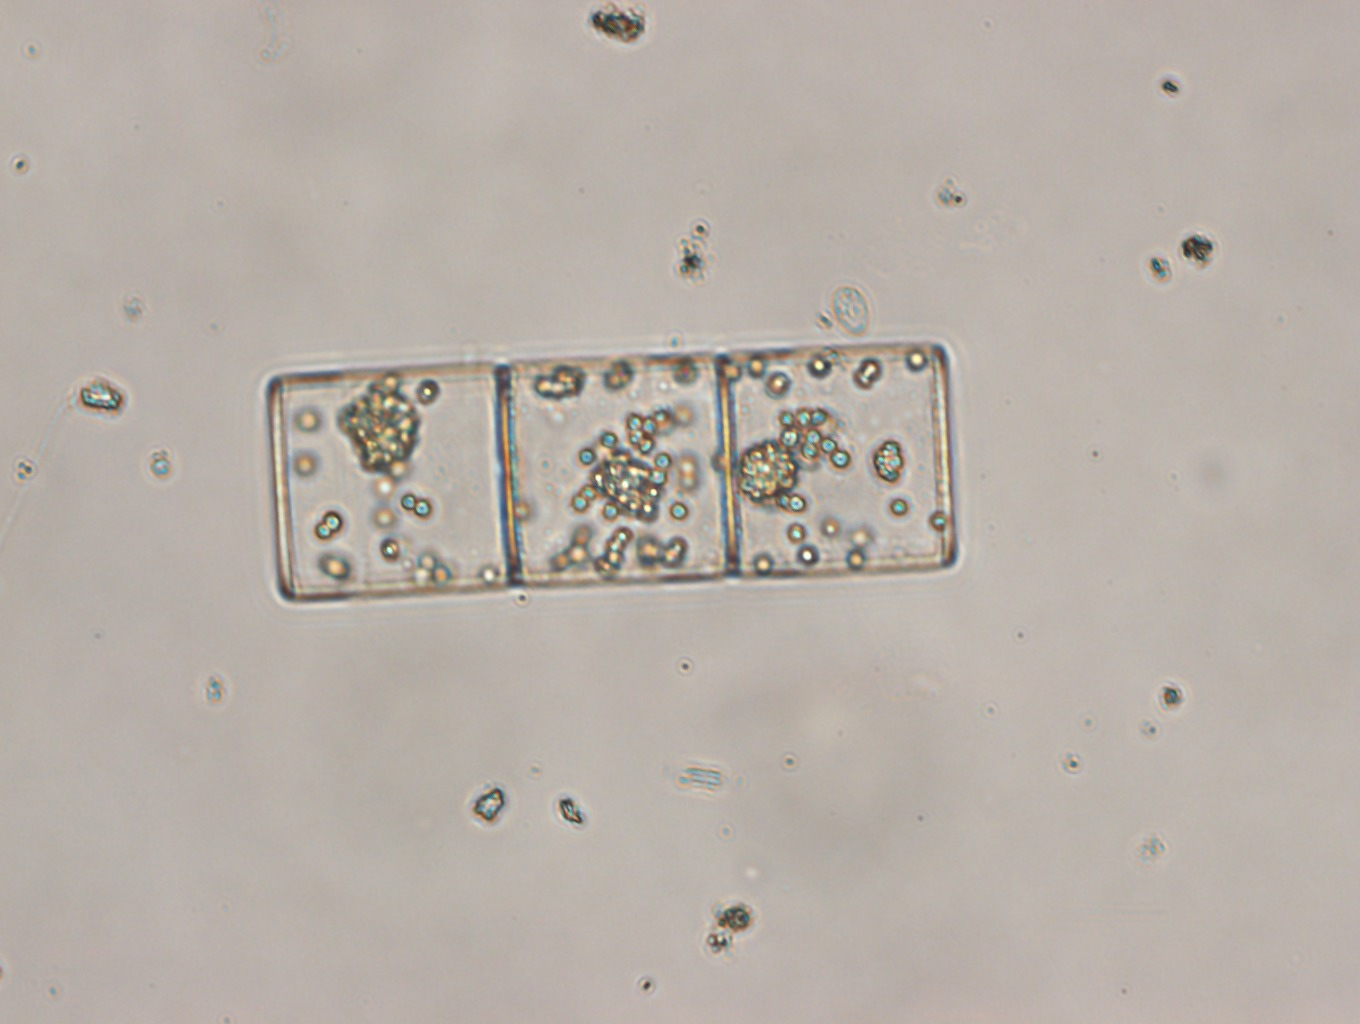guinardia flaccida: (250, 329, 1000, 612)
